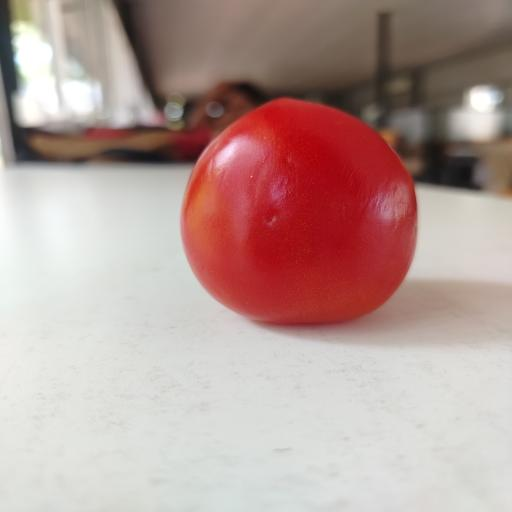ripe: (181, 99, 417, 323)
